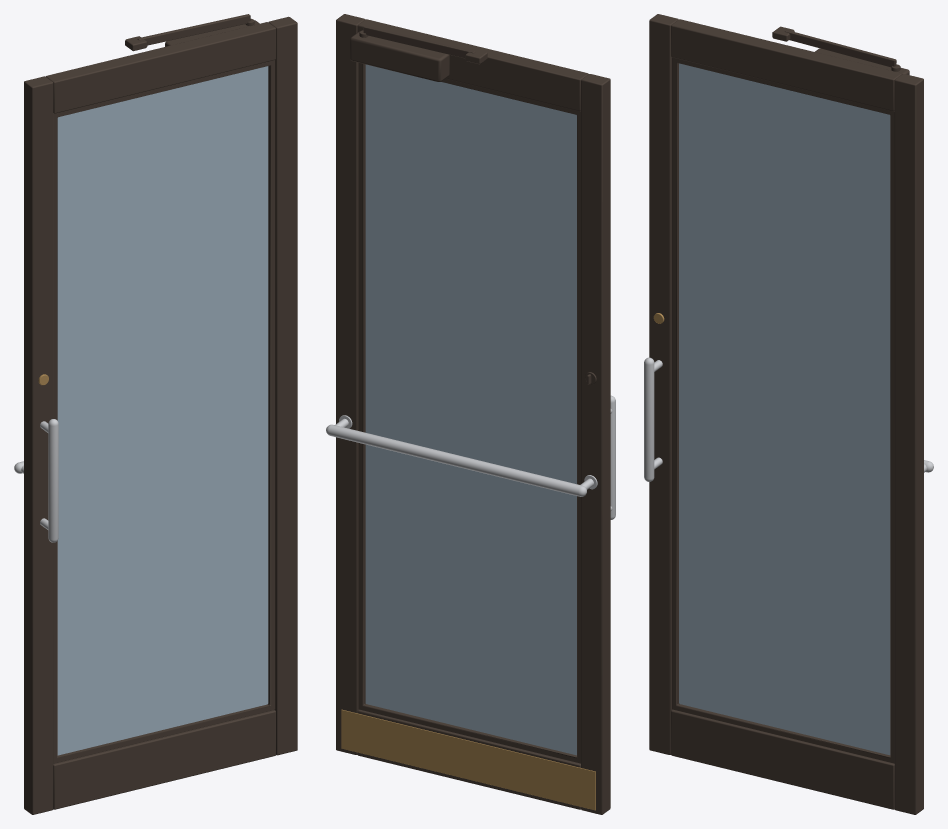
Rendered from door_leaf_right.glb.
3 views of the same model, side by side, from view 1: azimuth 30°, elevation 25°; view 2: azimuth 150°, elevation 25°; view 3: azimuth 330°, elevation 25° (orthographic).
Parts seen in each view (by area): view 1: door_leaf_right; view 2: door_leaf_right; view 3: door_leaf_right.
Boxes of the visible parts, x1,y1,x2,y2 form: door_leaf_right: (14,14,297,814); door_leaf_right: (326,14,615,814); door_leaf_right: (644,14,933,814).
Size of the model in its own units: 0.86 by 2.27 by 0.2065.
